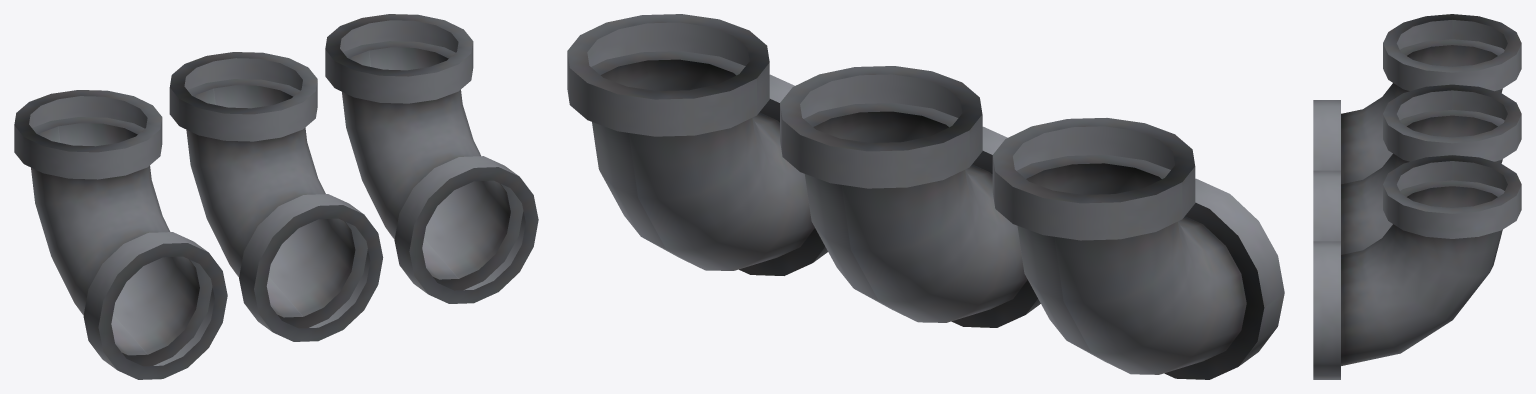
File: props_hydro_3pipe_turn_in.glb
3 renders of one model, left to right at view 1: azimuth 30°, elevation 25°; view 2: azimuth 150°, elevation 25°; view 3: azimuth 270°, elevation 25°, orthographic. The views are drawn at different scales.
Parts seen in each view (by area): view 1: models/props_hydro/3pipe_turn_in; view 2: models/props_hydro/3pipe_turn_in; view 3: models/props_hydro/3pipe_turn_in.
Boxes of the visible parts, x1,y1,x2,y2 form: models/props_hydro/3pipe_turn_in: (14,14,538,379); models/props_hydro/3pipe_turn_in: (567,14,1284,379); models/props_hydro/3pipe_turn_in: (1313,14,1521,379).
Bounding box in the file's own units: 33.98 × 14.99 × 14.99.
1 material, 1 textured.
